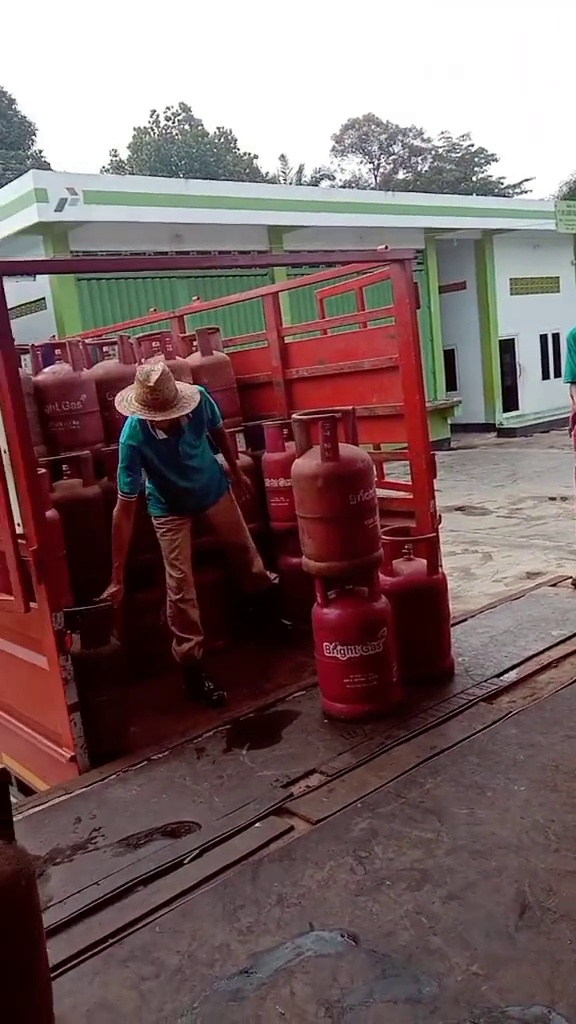bright_gas: (295, 407, 384, 579), (312, 573, 399, 729), (380, 526, 458, 698), (33, 466, 108, 610), (15, 338, 99, 452), (181, 329, 243, 433), (252, 413, 296, 535)
